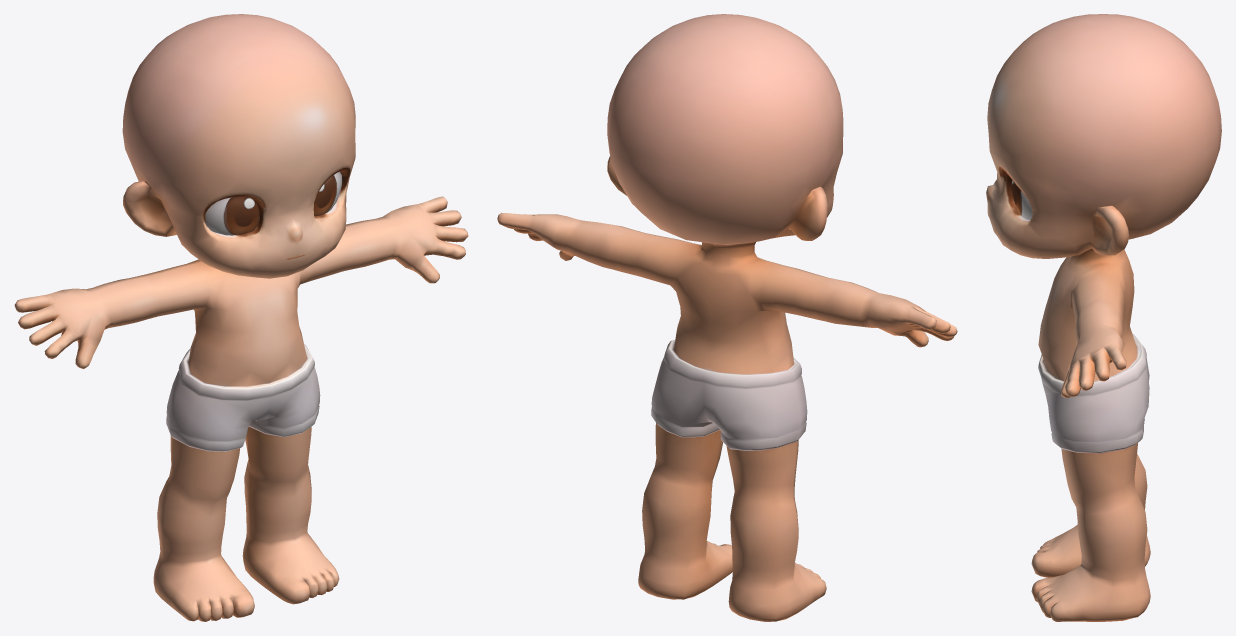
Rendered from base_body_raw.glb.
The picture shows the model from 3 angles, left to right: view 1: azimuth 30°, elevation 25°; view 2: azimuth 150°, elevation 25°; view 3: azimuth 270°, elevation 25°; orthographic projection.
Parts seen in each view (by area): view 1: Base_Body; view 2: Base_Body; view 3: Base_Body.
Boxes of the visible parts, <box> form: Base_Body: <box>14,14,468,621</box>; Base_Body: <box>497,14,957,621</box>; Base_Body: <box>986,14,1221,621</box>.
Bounding box in the file's own units: 0.8228 × 0.9995 × 0.3804.
Materials: 1 (1 with a texture image).
